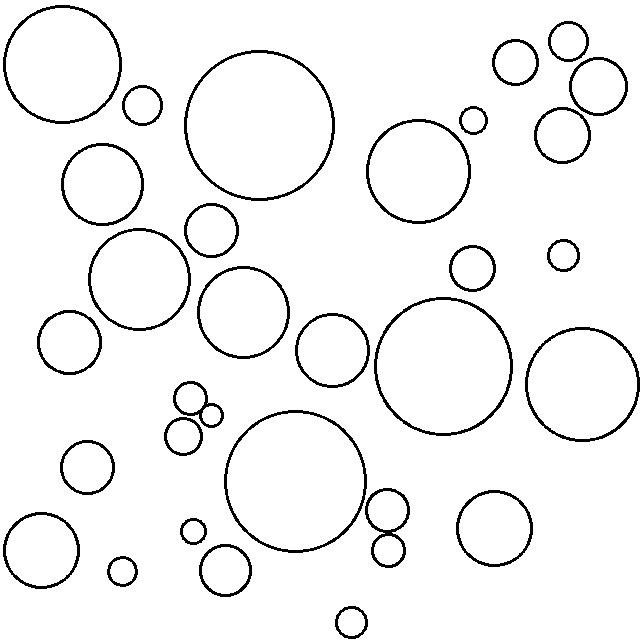circle: (181, 46, 339, 204), (221, 405, 369, 555), (373, 293, 516, 441), (4, 4, 125, 127), (523, 321, 637, 446), (361, 114, 475, 227), (88, 225, 195, 335), (196, 262, 294, 364), (57, 139, 148, 230), (451, 487, 535, 570), (2, 510, 85, 593), (293, 310, 373, 392), (35, 308, 104, 376), (565, 52, 631, 118), (59, 435, 120, 501), (530, 105, 594, 166), (196, 538, 256, 602), (183, 198, 243, 260), (491, 35, 543, 89), (447, 242, 499, 295), (363, 483, 414, 535), (120, 80, 167, 132), (546, 17, 592, 64), (160, 415, 208, 458), (367, 530, 410, 573), (171, 377, 211, 419), (544, 234, 582, 276), (333, 599, 371, 640), (103, 551, 141, 590), (456, 101, 490, 137), (177, 511, 210, 548), (198, 399, 226, 429)
